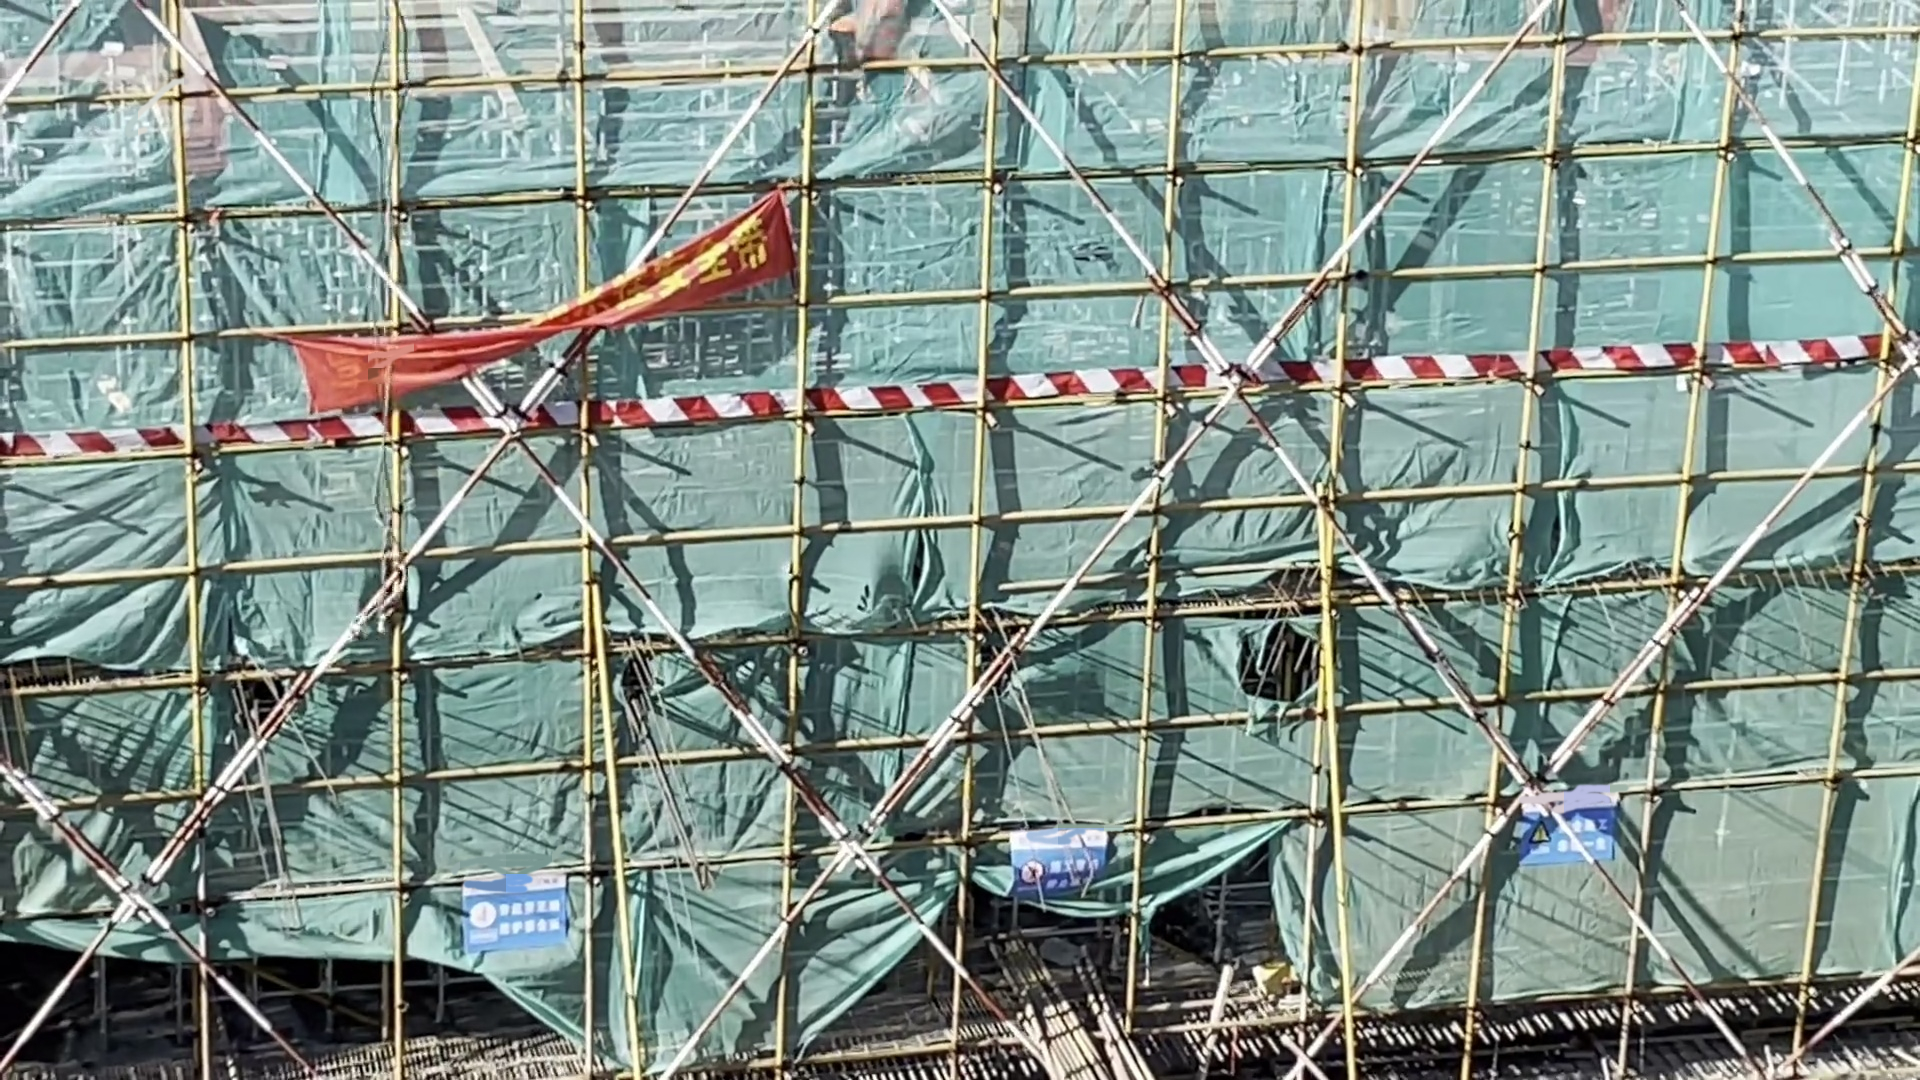slogan: (232, 187, 802, 414)
